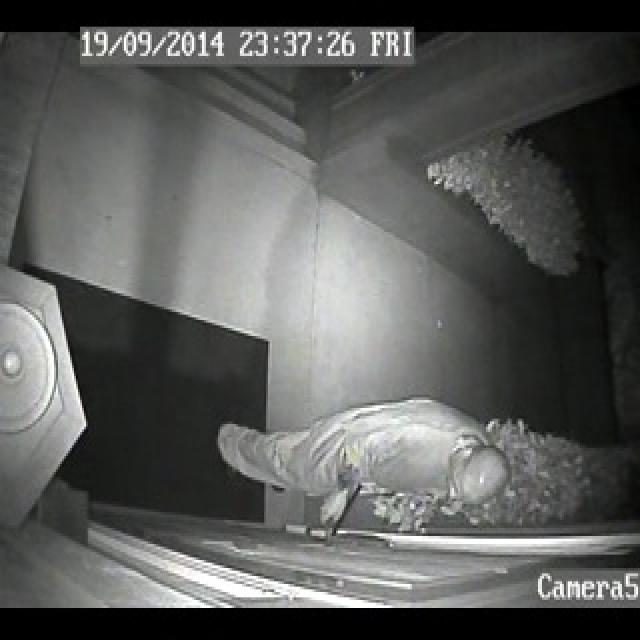burglary: (246, 402, 505, 567)
